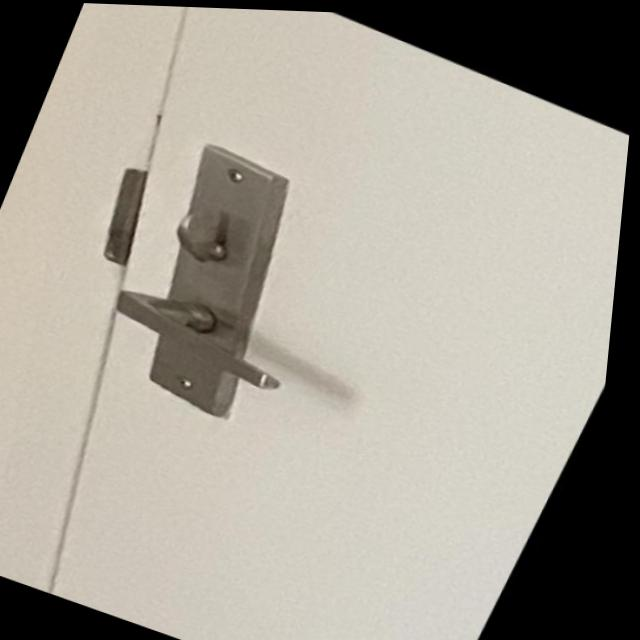door_handle: (74, 250, 336, 425)
